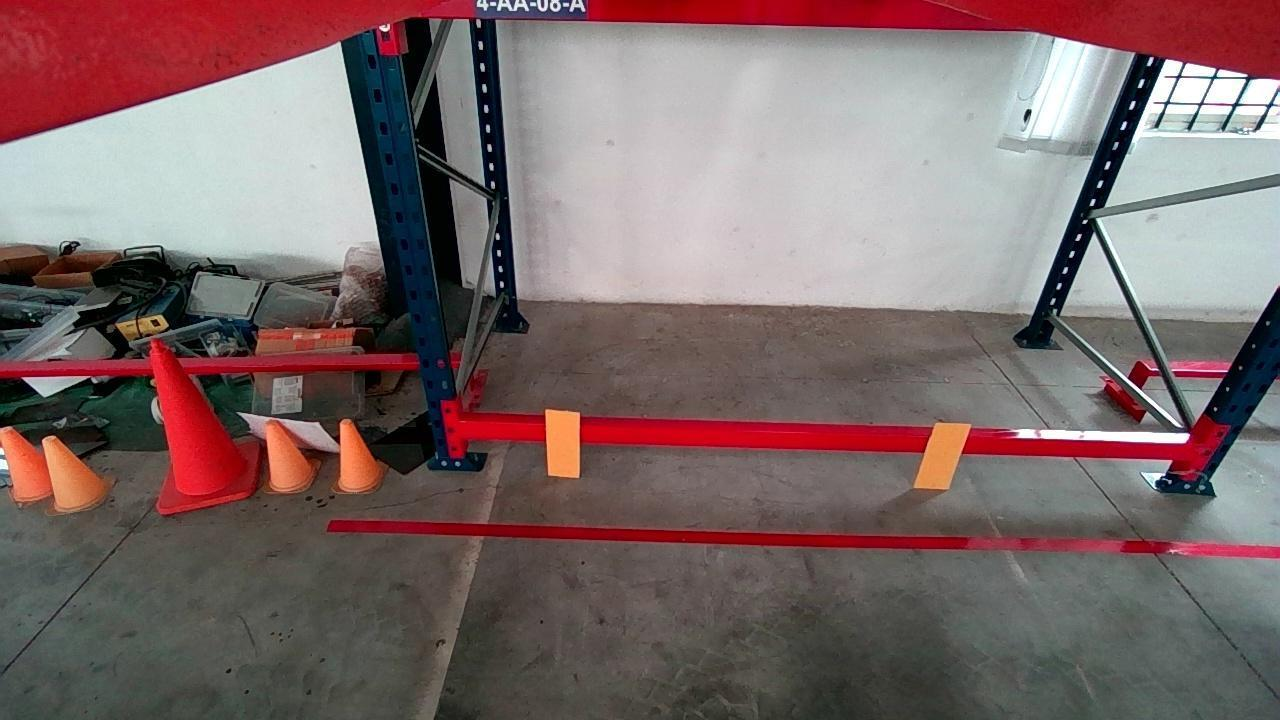h_rack: (457, 418, 1190, 458), (419, 0, 990, 25)
orange_strip: (917, 421, 969, 489), (546, 409, 581, 475)
red_line: (328, 521, 1280, 558)
